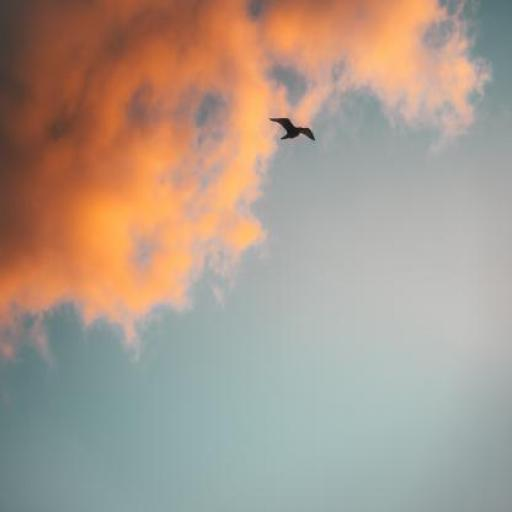bird: (270, 118, 316, 142)
